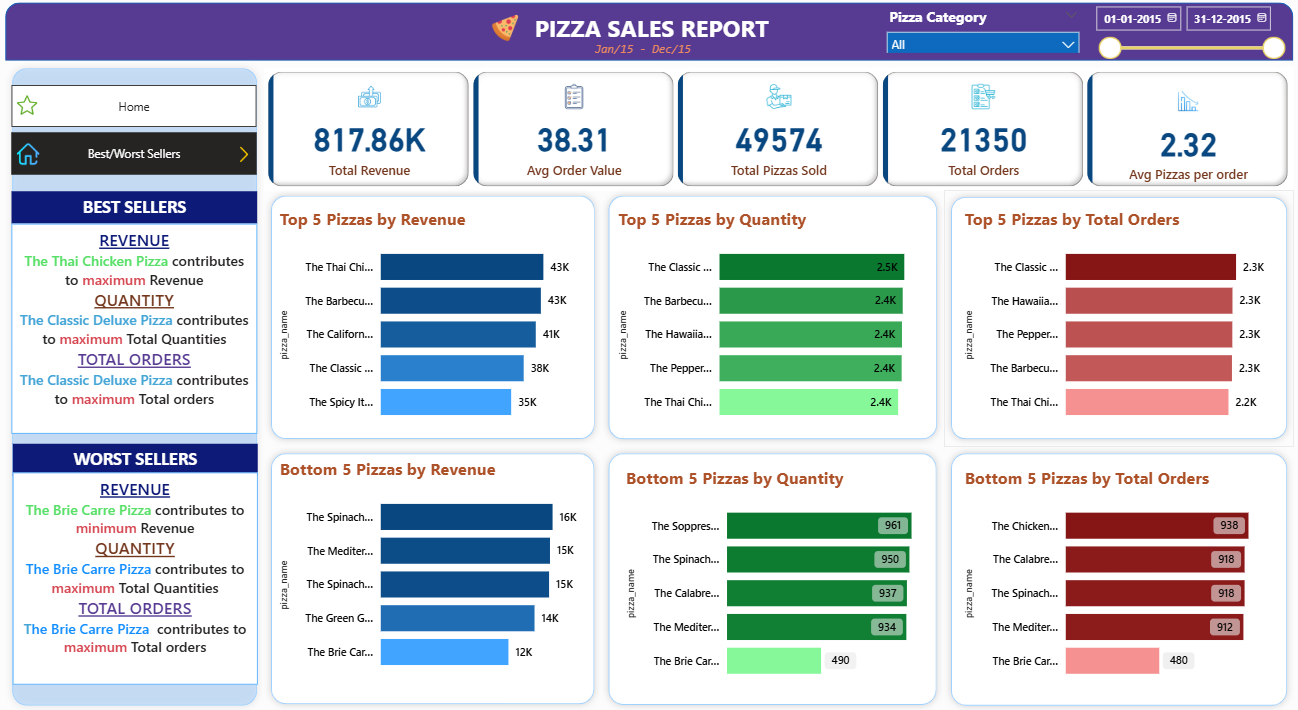

The dashboard page shown, as its layout file describes it:
{"tool":"powerbi","page":{"name":"Best/Worst Sellers","canvas":[1500,820],"ordinal":1},"visuals":[{"type":"shape","box":[12.9,75,295.7,744.3],"z":0},{"type":"cardVisual","fields":{"Data":["pizza_sales_excel_file.Total Revenue","pizza_sales_excel_file.Avg Order Value","pizza_sales_excel_file.Total Pizzas Sold","pizza_sales_excel_file.Total Orders","pizza_sales_excel_file.Avg Pizzas per order"]},"box":[308.3,83.3,1176.7,141.7],"z":1000},{"type":"shape","box":[12.9,8.6,1472.1,66.4],"z":2000},{"type":"textbox","box":[612.9,14.3,281.4,45.7],"z":3000},{"type":"textbox","box":[681.9,47.5,135.6,34.4],"z":4000},{"type":"image","box":[561.3,16.7,46,41.3],"z":5000},{"type":"shape","box":[308,222,386,294],"z":6000},{"type":"textbox","box":[20,224,281,37],"z":7000},{"type":"textbox","box":[20,261,281,240],"z":8000},{"type":"textbox","box":[21,513,280,37],"z":9000},{"type":"textbox","box":[21,546,280,242],"z":10000},{"type":"slicer","fields":{"Values":["pizza_sales_excel_file.pizza_category"]},"box":[1009.3,8.6,240,57.9],"z":11000},{"type":"slicer","fields":{"Values":["pizza_sales_excel_file.order_date"]},"box":[1247.5,3.3,236.7,75],"z":12000},{"type":"shape","box":[694.3,221.4,391.4,294.3],"z":13000},{"type":"shape","box":[1085.5,222.7,400,292.7],"z":14000},{"type":"shape","box":[308.2,515.5,385.5,302.7],"z":15000},{"type":"shape","box":[694.5,516.4,390.9,303.6],"z":16000},{"type":"shape","box":[1085.5,515.5,400,304.5],"z":17000},{"type":"barChart","title":"Top 5 Pizzas by Revenue","fields":{"Category":["pizza_sales_excel_file.pizza_name"],"Y":["pizza_sales_excel_file.Total Revenue"]},"box":[321.1,242.2,361.1,258.9],"z":18000},{"type":"barChart","title":"Bottom 5 Pizzas by Revenue","fields":{"Category":["pizza_sales_excel_file.pizza_name"],"Y":["pizza_sales_excel_file.Total Revenue"]},"box":[321.1,528.9,361.1,258.9],"z":19000},{"type":"barChart","title":"Top 5 Pizzas by Quantity","fields":{"Category":["pizza_sales_excel_file.pizza_name"],"Y":["pizza_sales_excel_file.Total Pizzas Sold"]},"box":[708.9,242.2,361.1,258.9],"z":20000},{"type":"barChart","title":"Bottom 5 Pizzas by Quantity","fields":{"Category":["pizza_sales_excel_file.pizza_name"],"Y":["pizza_sales_excel_file.Total Pizzas Sold"]},"box":[716.7,538.9,361.1,258.9],"z":21000},{"type":"barChart","title":"Top 5 Pizzas by Total Orders","fields":{"Category":["pizza_sales_excel_file.pizza_name"],"Y":["pizza_sales_excel_file.Total Orders"]},"box":[1104.4,242.2,361.1,258.9],"z":22000},{"type":"barChart","title":"Bottom 5 Pizzas by Total Orders","fields":{"Category":["pizza_sales_excel_file.pizza_name"],"Y":["pizza_sales_excel_file.Total Orders"]},"box":[1104.4,538.9,361.1,258.9],"z":23000},{"type":"pageNavigator","box":[20,157.1,280,48.6],"z":24000},{"type":"pageNavigator","box":[20,102.9,280,48.6],"z":25000},{"type":"image","box":[271,169,29,27],"z":26000},{"type":"image","box":[21,158,35,46],"z":27000},{"type":"image","box":[21,109,33,35],"z":28000}]}

Visuals, with their boxes in screenshot pixels (x1, y1, x2, y2), scaled from the page's 1500x820 canvas onto the 1298x710 screenshot:
shape: (x1=11, y1=65, x2=267, y2=709)
cardVisual - pizza_sales_excel_file.Total Revenue x pizza_sales_excel_file.Avg Order Value: (x1=267, y1=72, x2=1285, y2=195)
shape: (x1=11, y1=7, x2=1285, y2=65)
textbox: (x1=530, y1=12, x2=774, y2=52)
textbox: (x1=590, y1=41, x2=707, y2=71)
image: (x1=486, y1=14, x2=526, y2=50)
shape: (x1=267, y1=192, x2=601, y2=447)
textbox: (x1=17, y1=194, x2=260, y2=226)
textbox: (x1=17, y1=226, x2=260, y2=434)
textbox: (x1=18, y1=444, x2=260, y2=476)
textbox: (x1=18, y1=473, x2=260, y2=682)
slicer - pizza_sales_excel_file.pizza_category: (x1=873, y1=7, x2=1081, y2=58)
slicer - pizza_sales_excel_file.order_date: (x1=1080, y1=3, x2=1284, y2=68)
shape: (x1=601, y1=192, x2=939, y2=447)
shape: (x1=939, y1=193, x2=1285, y2=446)
shape: (x1=267, y1=446, x2=600, y2=708)
shape: (x1=601, y1=447, x2=939, y2=709)
shape: (x1=939, y1=446, x2=1285, y2=709)
"Top 5 Pizzas by Revenue" barChart: (x1=278, y1=210, x2=590, y2=434)
"Bottom 5 Pizzas by Revenue" barChart: (x1=278, y1=458, x2=590, y2=682)
"Top 5 Pizzas by Quantity" barChart: (x1=613, y1=210, x2=926, y2=434)
"Bottom 5 Pizzas by Quantity" barChart: (x1=620, y1=467, x2=933, y2=691)
"Top 5 Pizzas by Total Orders" barChart: (x1=956, y1=210, x2=1268, y2=434)
"Bottom 5 Pizzas by Total Orders" barChart: (x1=956, y1=467, x2=1268, y2=691)
pageNavigator: (x1=17, y1=136, x2=260, y2=178)
pageNavigator: (x1=17, y1=89, x2=260, y2=131)
image: (x1=235, y1=146, x2=260, y2=170)
image: (x1=18, y1=137, x2=48, y2=177)
image: (x1=18, y1=94, x2=47, y2=125)
